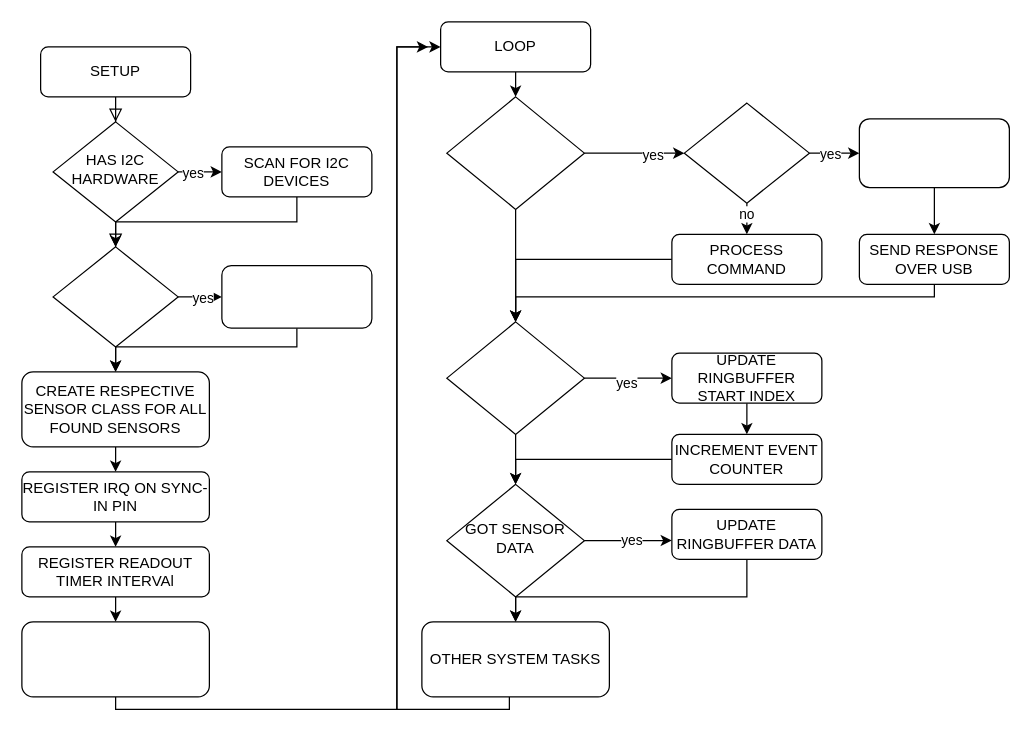
The diagram is 1031 pixels wide and 741 high, and some of its shapes have lost their labels. Here are the shapes that lost their labels. From the top down, the centre of each, then its label:
pixel 515 152: GOT USER COMMAND
pixel 746 152: IS READOUT REQUEST
pixel 933 153: CALCULATE AVERAGE USING CURRENT START INDEX
pixel 115 296: HAS UART HARDWARE
pixel 296 296: CHECK FOR INCOMMING PACKETS
pixel 515 377: IS IRQ SYNC IMPULSE SET
pixel 115 659: CONFIGURE USER USB HOST COMMUNICATION
